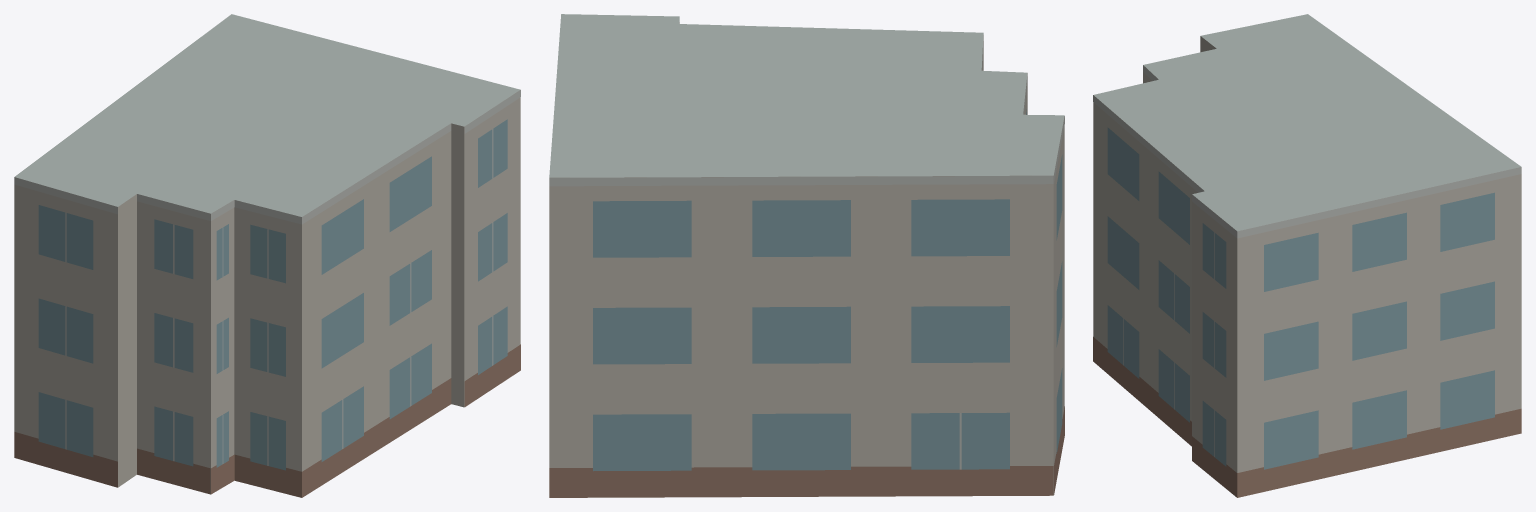
Rendered from survey-upis-32735119.glb.
3 renders of one model, left to right at view 1: azimuth 30°, elevation 25°; view 2: azimuth 150°, elevation 25°; view 3: azimuth 270°, elevation 25°, orthographic. The views are drawn at different scales.
Visible parts, largest first — view 1: survey-upis-32735119.tmp; view 2: survey-upis-32735119.tmp; view 3: survey-upis-32735119.tmp.
Boxes of the visible parts, <box> form: survey-upis-32735119.tmp: <box>14,14,520,497</box>; survey-upis-32735119.tmp: <box>549,14,1064,497</box>; survey-upis-32735119.tmp: <box>1093,14,1521,497</box>.
Bounding box in the file's own units: 16.01 × 9.15 × 13.34.
